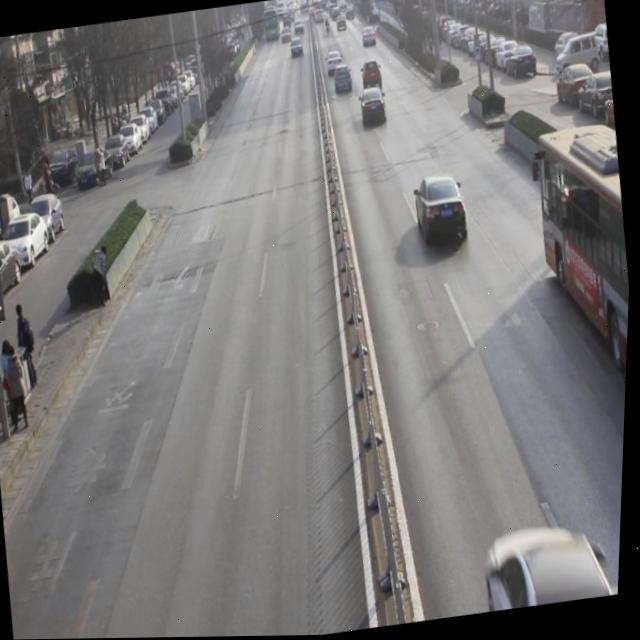car: (411, 171, 475, 251), (358, 86, 390, 130), (332, 62, 355, 96), (360, 59, 385, 89)
van: (528, 127, 636, 391)
